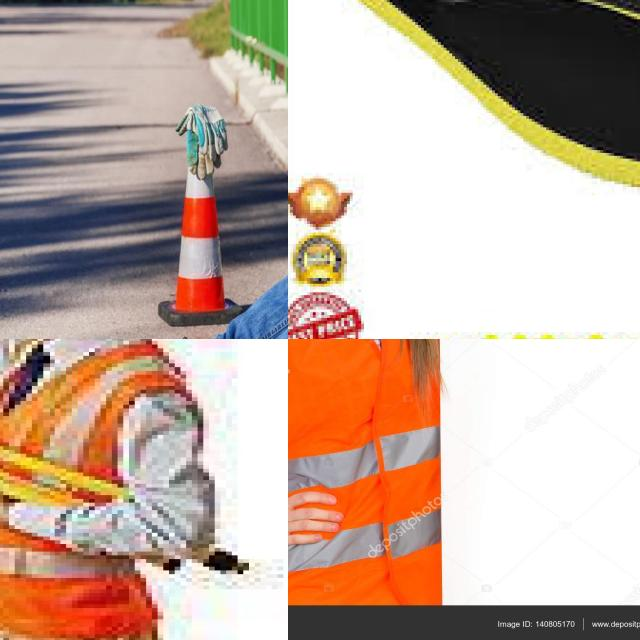Sandals: (288, 0, 640, 312)
hand_noglove: (288, 493, 346, 556)
person: (0, 339, 231, 640), (137, 0, 288, 339), (288, 339, 485, 589)
vest: (0, 339, 191, 634), (288, 339, 438, 602)
